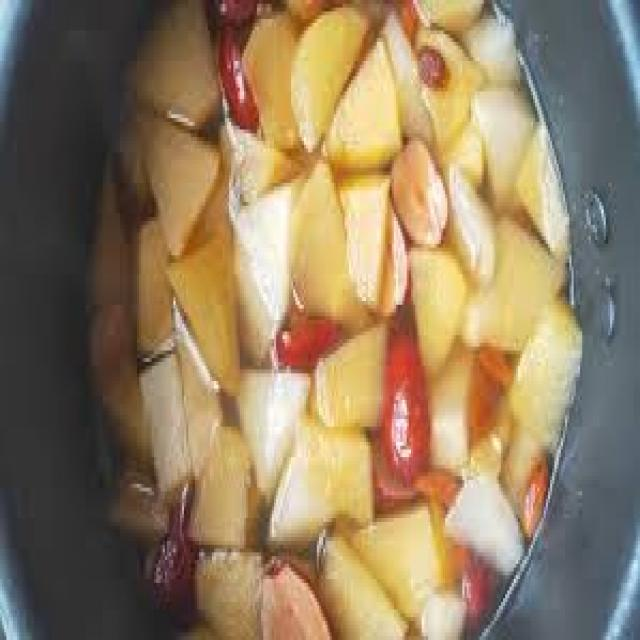organic waste: (88, 0, 582, 606)
